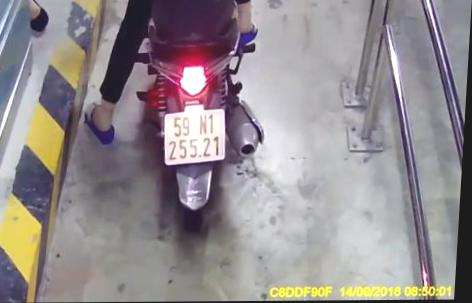License_Plate: (158, 110, 230, 165)
